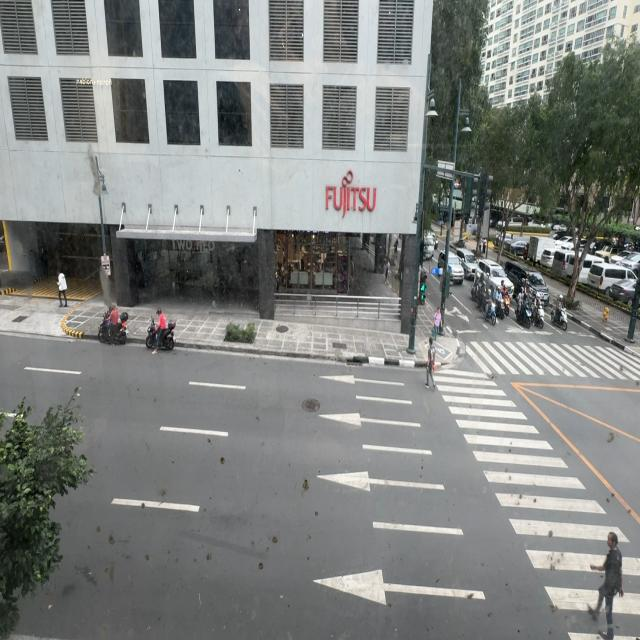crossing: (590, 532, 624, 640)
jaywalking: (424, 337, 436, 388)
pedestrain: (57, 270, 68, 307), (433, 306, 442, 342)
